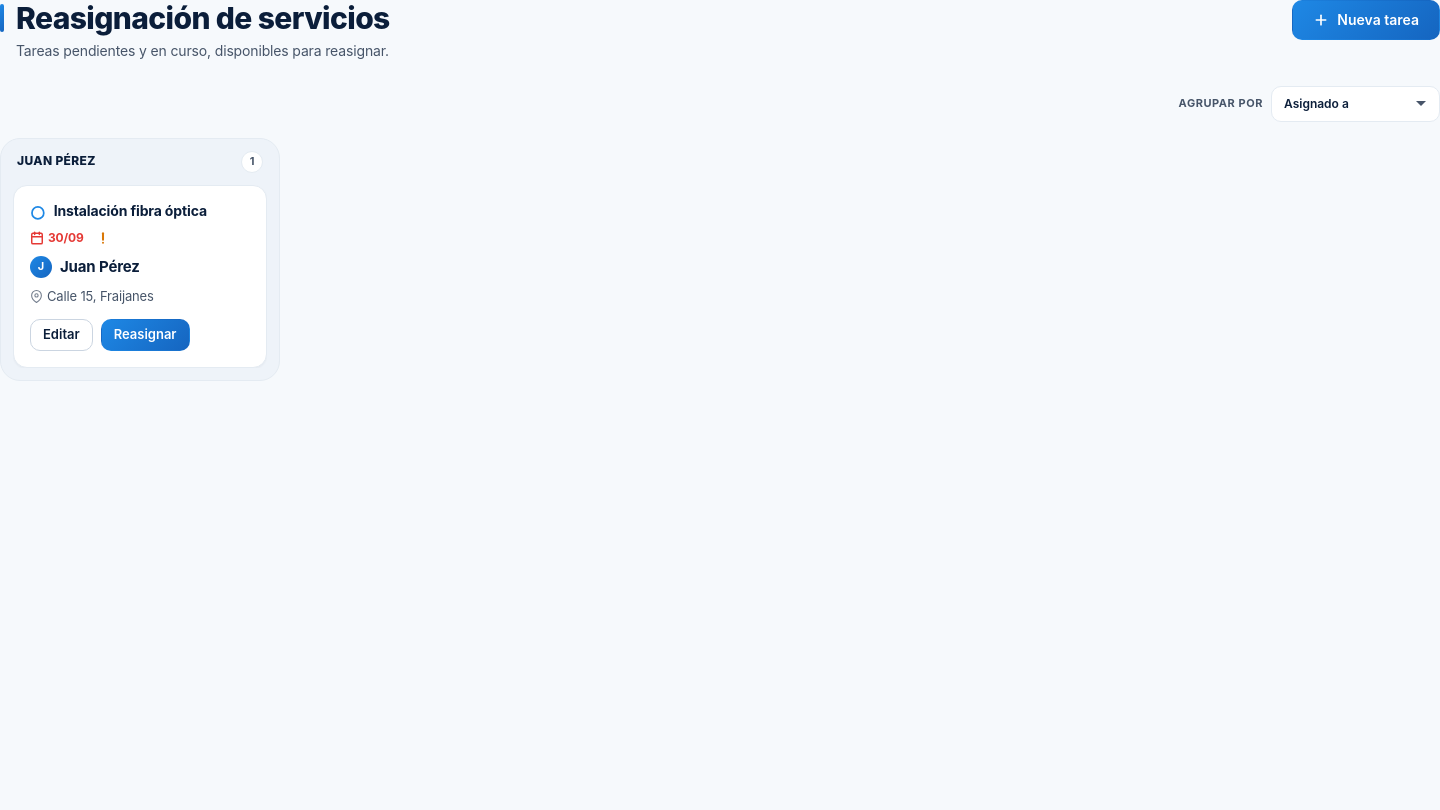
ReasignacionPage — cambio de técnico › al confirmar "sin asignar" manda id_tecnico null, no una reasignación
Click the button "Reasignar" at (145, 335), box left=101, top=319, right=190, bottom=351
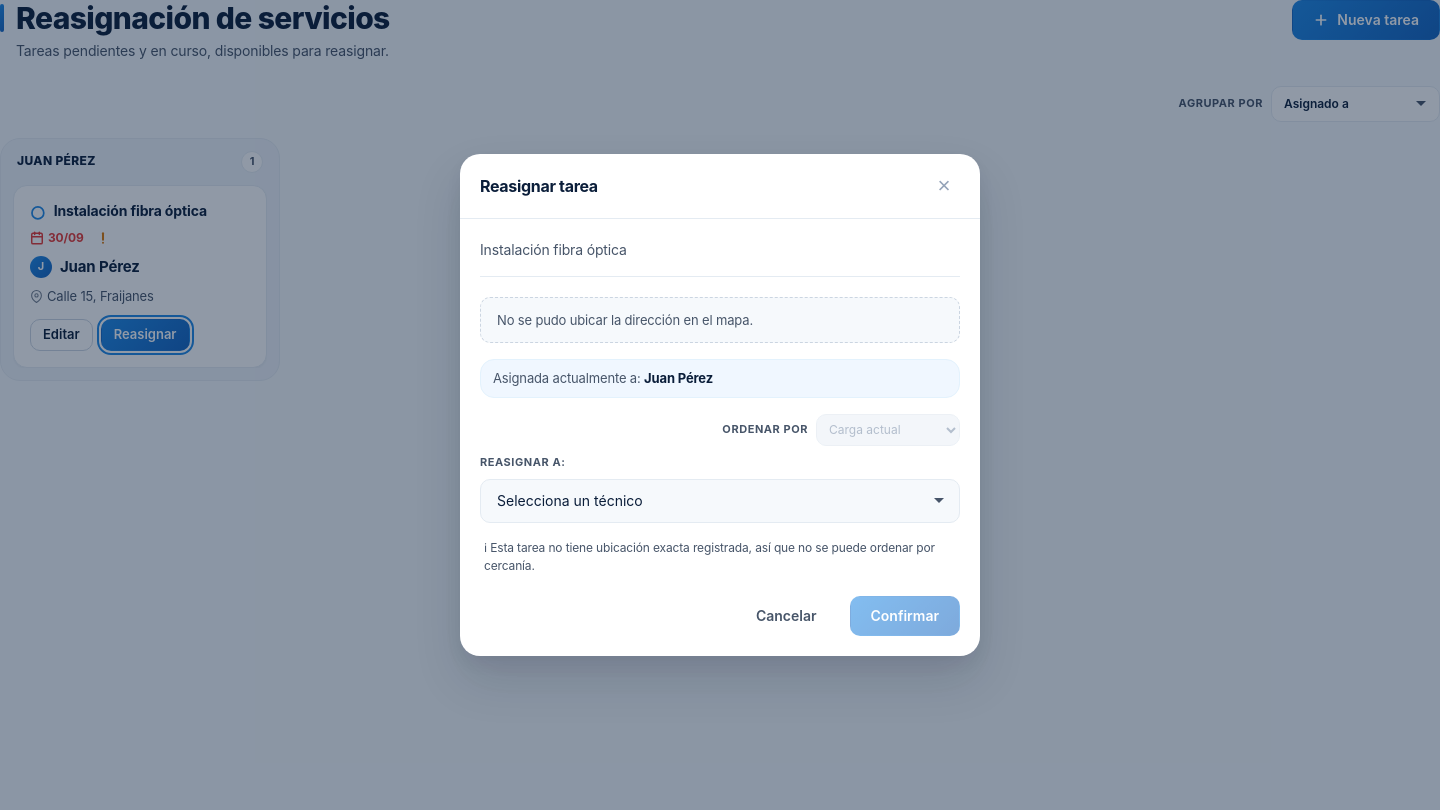
Result: the dropdown labelled "Reasignar a:" is shown
Select "Dejar sin asignar" in the dropdown labelled "Reasignar a:" at (720, 501), box left=480, top=479, right=960, bottom=523
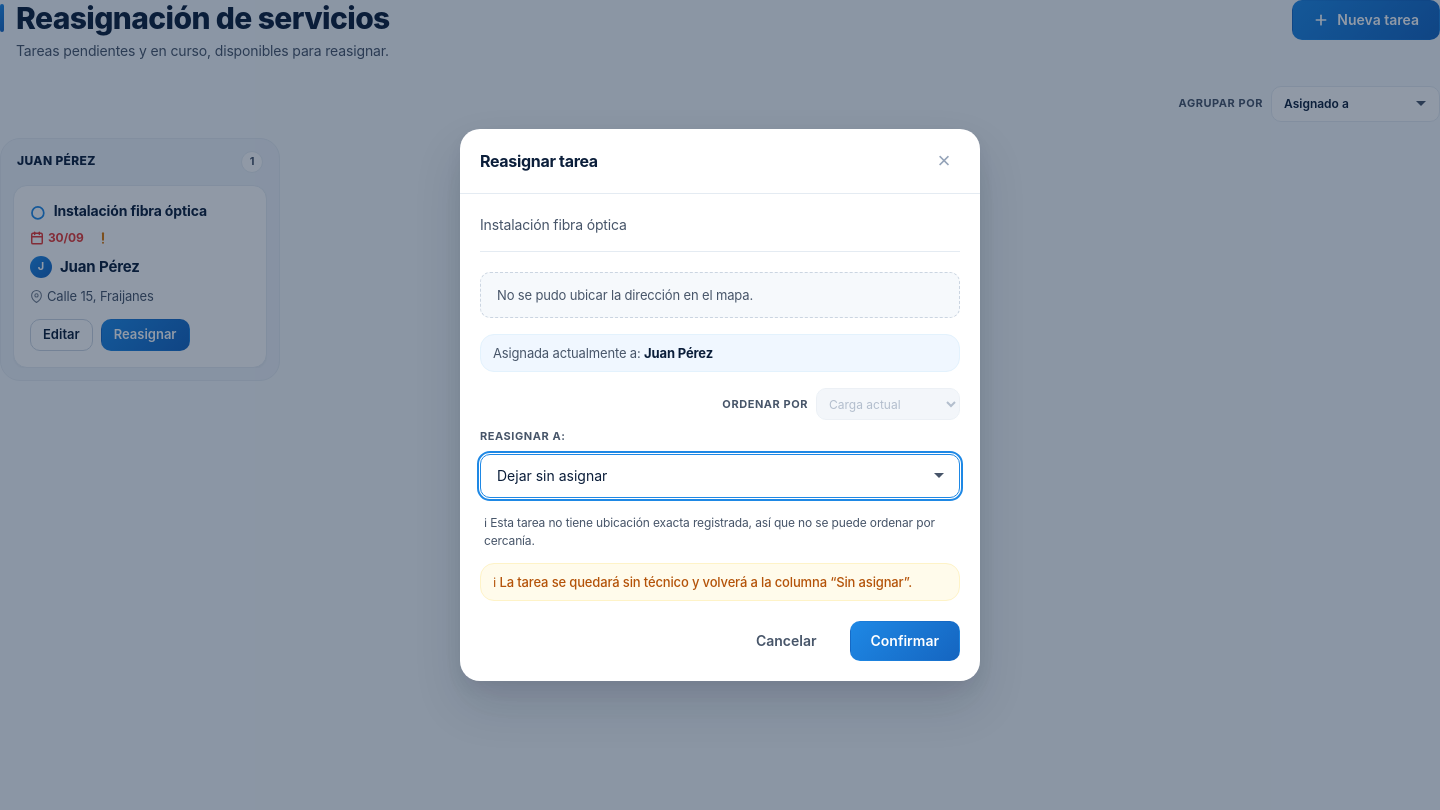
Click the button "Confirmar" at (905, 641), box left=850, top=621, right=960, bottom=661
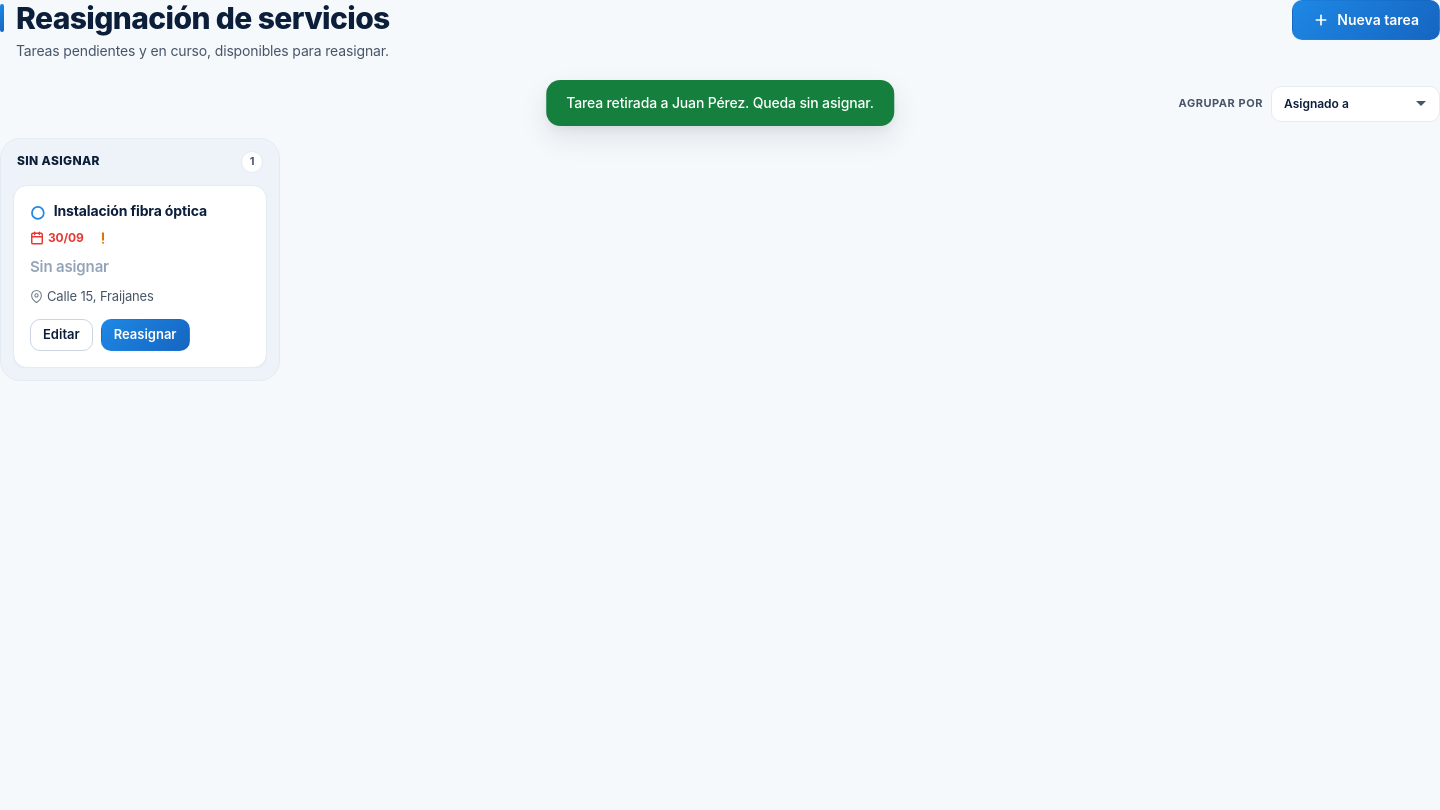
Result: the text "Tarea retirada a Juan Pérez. Queda sin asignar." is shown at left=546, top=80, right=894, bottom=126
